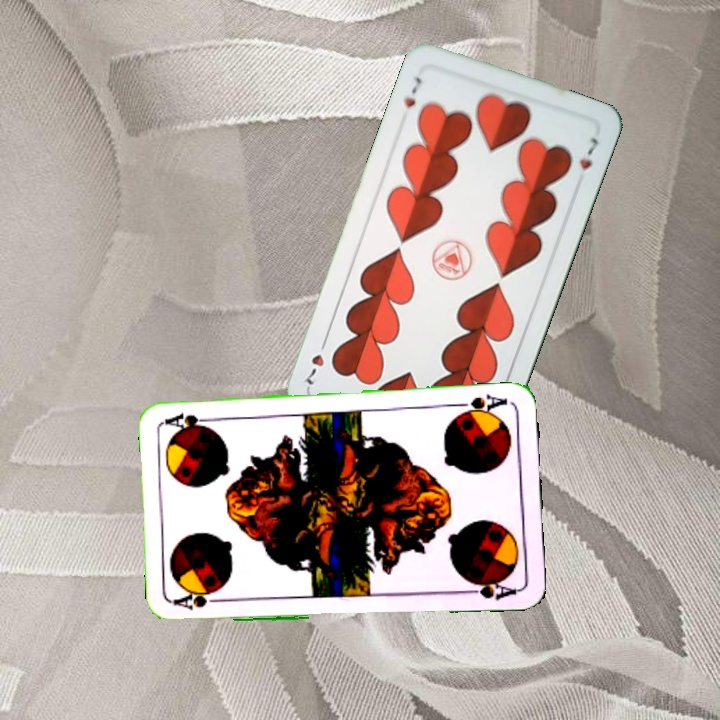H7: (399, 72, 424, 111)
SA: (452, 390, 510, 418), (170, 588, 230, 612)
